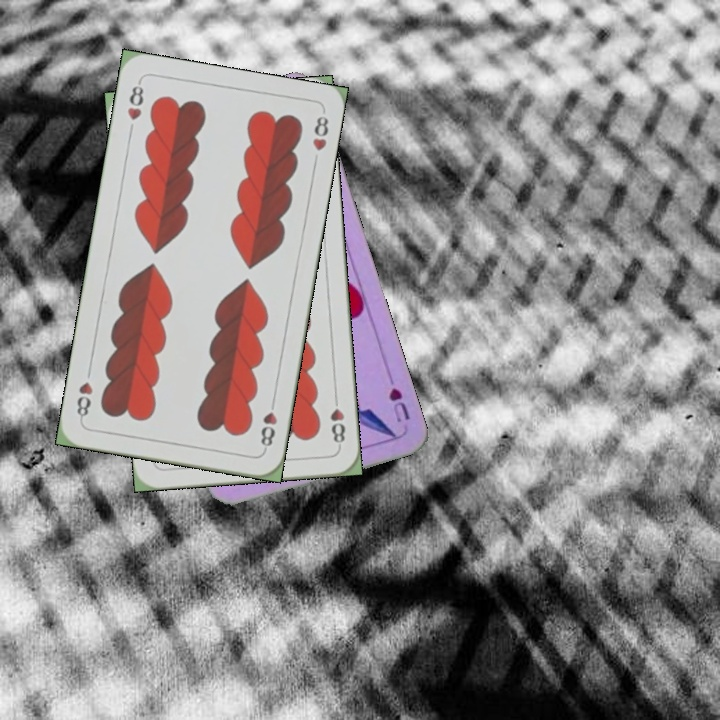H8: (256, 394, 280, 453), (326, 391, 348, 450), (123, 77, 146, 123)
HU: (385, 384, 412, 425)
